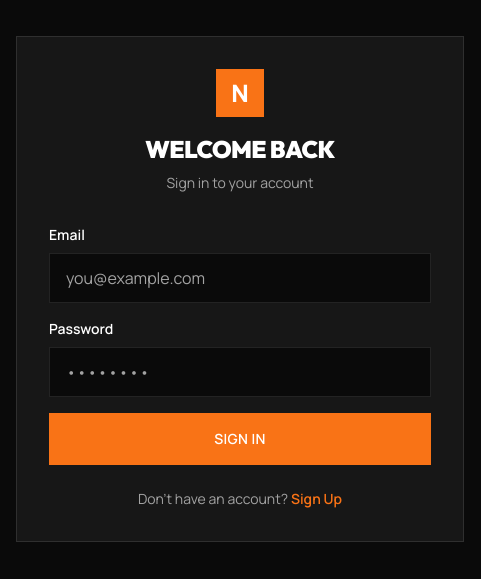
Test: Login Page › shows email error when submitting empty email
The image size is (481, 579).
Click the button with test id "submit-btn" at (240, 439), box [49,413,431,465]
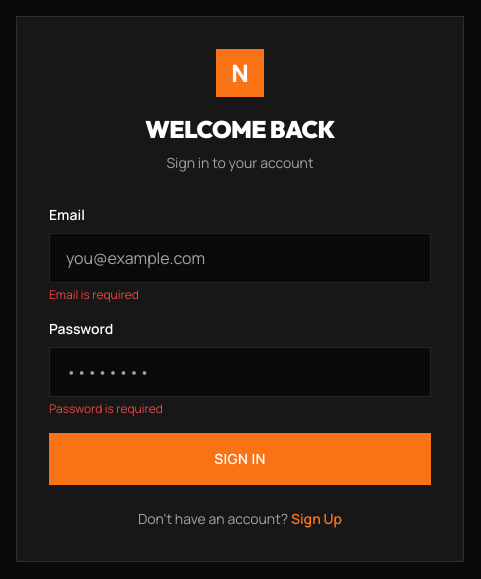
Now the text with test id "email-error" reads "Email is required", box [49,286,139,303]
